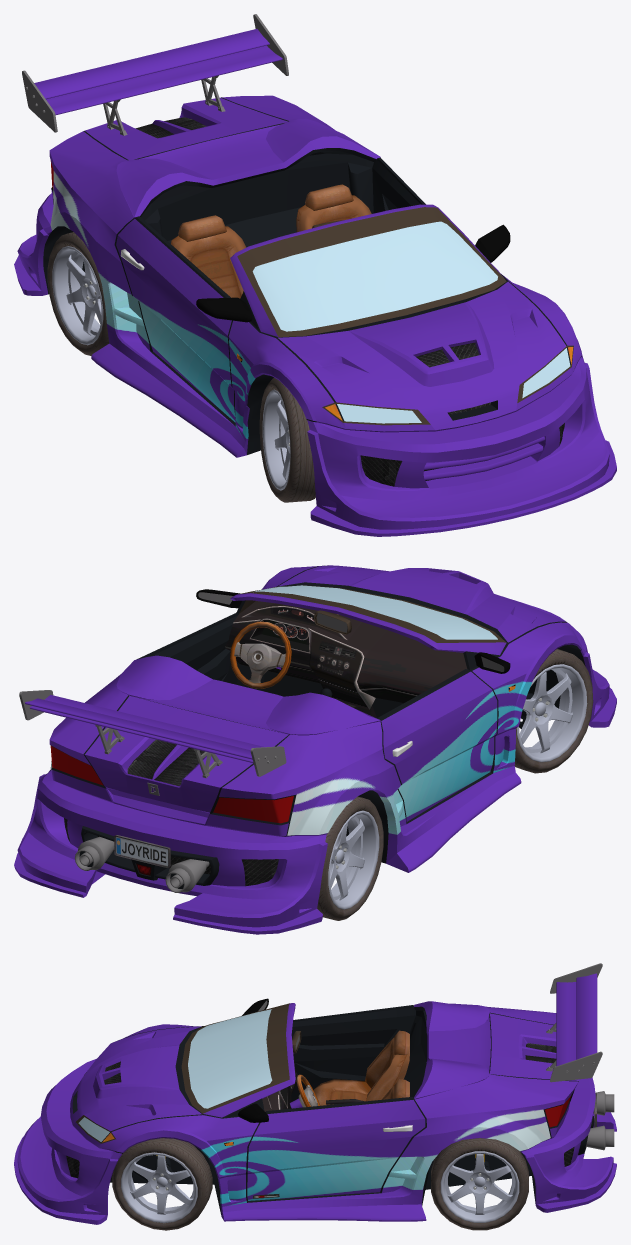
File: car1.gltf
3 renders of one model, top to bottom at view 1: azimuth 30°, elevation 25°; view 2: azimuth 150°, elevation 25°; view 3: azimuth 270°, elevation 25°, orthographic. The views are drawn at different scales.
Visible parts, largest first — view 1: node_id559, node_id555, node_id535, node_id467, node_id553, node_id557, node_id506, node_id477, node_id563, node_id503, node_id465, node_id497 (+5 smaller); view 2: node_id559, node_id533, node_id535, node_id557, node_id497, node_id467, node_id555, node_id506, node_id563, node_id541, node_id572, node_id465 (+8 smaller); view 3: node_id559, node_id535, node_id555, node_id557, node_id467, node_id515, node_id524, node_id477, node_id553, node_id530, node_id521, node_id465 (+8 smaller).
Part boxes in pixels (x1=…): node_id559: x1=17, y1=95, x2=609, y2=529; node_id555: x1=252, y1=221, x2=570, y2=423; node_id535: x1=43, y1=97, x2=581, y2=454; node_id467: x1=34, y1=29, x2=282, y2=114; node_id553: x1=237, y1=207, x2=573, y2=425; node_id557: x1=14, y1=255, x2=616, y2=536; node_id506: x1=52, y1=246, x2=103, y2=345; node_id477: x1=171, y1=226, x2=246, y2=298; node_id563: x1=135, y1=117, x2=564, y2=486; node_id503: x1=268, y1=378, x2=315, y2=502; node_id465: x1=22, y1=14, x2=288, y2=135; node_id497: x1=262, y1=389, x2=290, y2=490; node_id559: x1=17, y1=565, x2=609, y2=927; node_id533: x1=225, y1=601, x2=467, y2=718; node_id535: x1=50, y1=565, x2=585, y2=885; node_id557: x1=14, y1=687, x2=616, y2=934; node_id497: x1=516, y1=664, x2=587, y2=762; node_id467: x1=25, y1=694, x2=264, y2=763; node_id555: x1=253, y1=585, x2=497, y2=639; node_id506: x1=328, y1=810, x2=379, y2=909; node_id563: x1=64, y1=739, x2=278, y2=886; node_id541: x1=50, y1=746, x2=293, y2=823; node_id572: x1=230, y1=621, x2=291, y2=688; node_id465: x1=19, y1=690, x2=286, y2=778; node_id559: x1=17, y1=1001, x2=613, y2=1215; node_id535: x1=72, y1=1005, x2=594, y2=1216; node_id555: x1=78, y1=1009, x2=272, y2=1141; node_id557: x1=14, y1=1115, x2=616, y2=1224; node_id467: x1=556, y1=973, x2=597, y2=1066; node_id515: x1=440, y1=1151, x2=519, y2=1222; node_id524: x1=121, y1=1152, x2=197, y2=1223; node_id477: x1=313, y1=1038, x2=409, y2=1105; node_id553: x1=76, y1=1003, x2=289, y2=1143; node_id530: x1=112, y1=1138, x2=212, y2=1230; node_id521: x1=431, y1=1138, x2=528, y2=1230; node_id465: x1=546, y1=963, x2=602, y2=1082.
Bounding box in the file's own units: 0.512 × 0.3377 × 1.07.
Materials: 51 (50 with a texture image).
